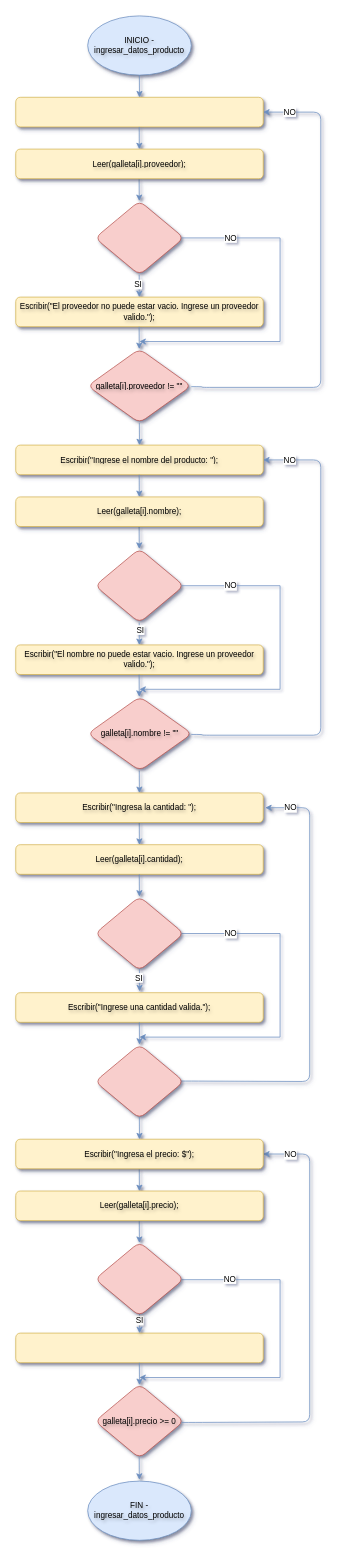
This 349x1563 diagram has some shape labels left out. The shapes that lost their labels are listed below. From the top down, each one's centre as x and y in pixels, then its label:
(x=140, y=113): Escribir("Ingrese el proveedor del producto: ");
(x=139, y=238): galleta[i].proveedor = ""
(x=139, y=586): galleta[i].nombre = ""
(x=139, y=934): galleta[i].cantidad < 0
(x=139, y=1082): galleta[i].cantidad >= 0
(x=139, y=1279): galleta[i].precio < 0
(x=140, y=1348): Escribir("Ingrese una precio valido.");
